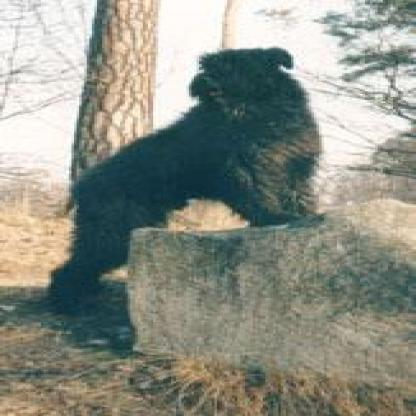Bouvier_des_Flandres: (41, 43, 321, 310)
